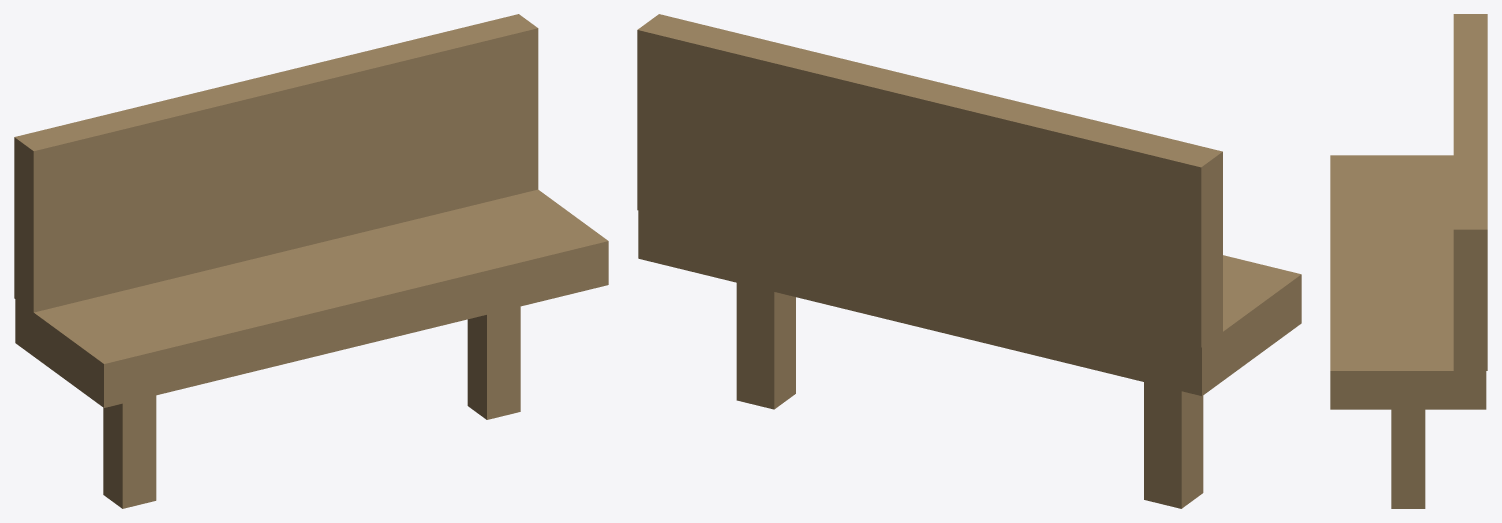
File: ParkBench.obj
3 renders of one model, left to right at view 1: azimuth 30°, elevation 25°; view 2: azimuth 150°, elevation 25°; view 3: azimuth 270°, elevation 25°, orthographic. The views are drawn at different scales.
Visible parts, largest first — view 1: ParkBench; view 2: ParkBench; view 3: ParkBench.
Part boxes in pixels (left/top/right/bottom): ParkBench: left=14, top=14, right=608, bottom=508; ParkBench: left=637, top=14, right=1301, bottom=508; ParkBench: left=1330, top=14, right=1487, bottom=508.
Bounding box in the file's own units: 1.8 × 1.17 × 0.555.
